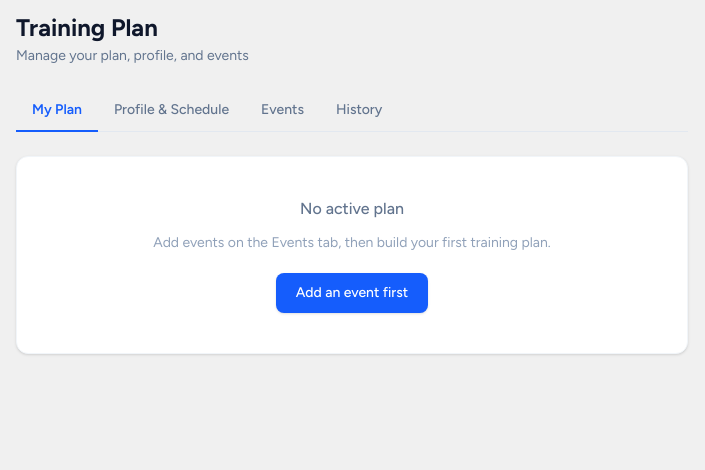
Test case: PlanPage — events sync › renders the sync button in the events tab
This screenshot has width=705, height=470.
Click the button "Events". click: (283, 111)
box: [245,90,320,132]
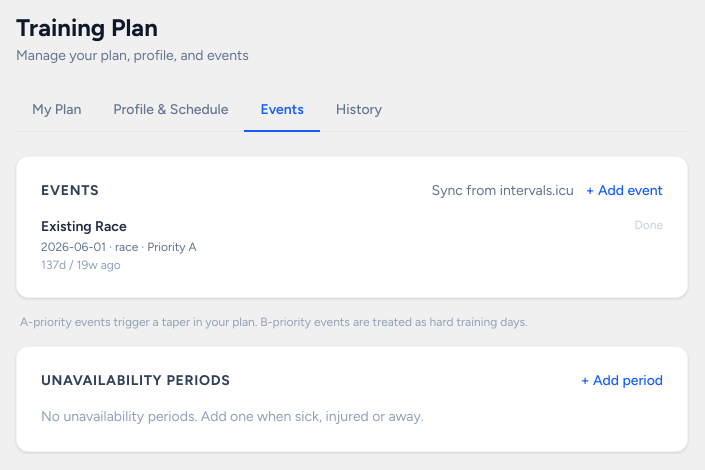
Check: the button "Sync from intervals.icu" is shown, box [432,181,574,201]
